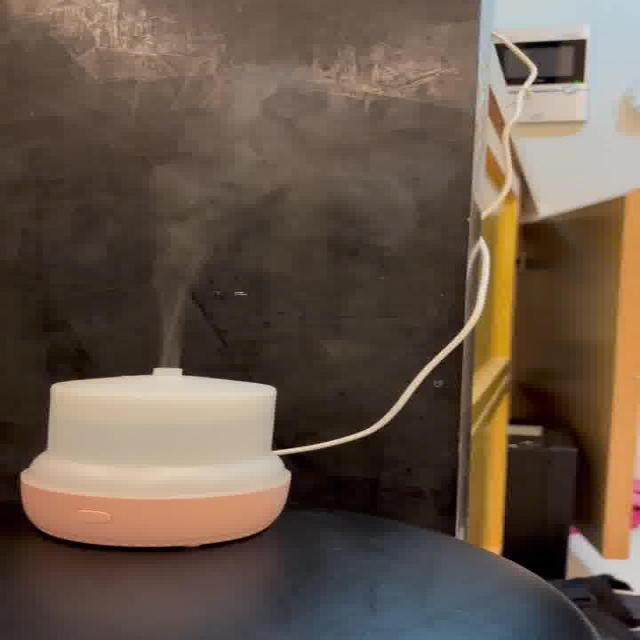fire: (151, 96, 391, 366)
